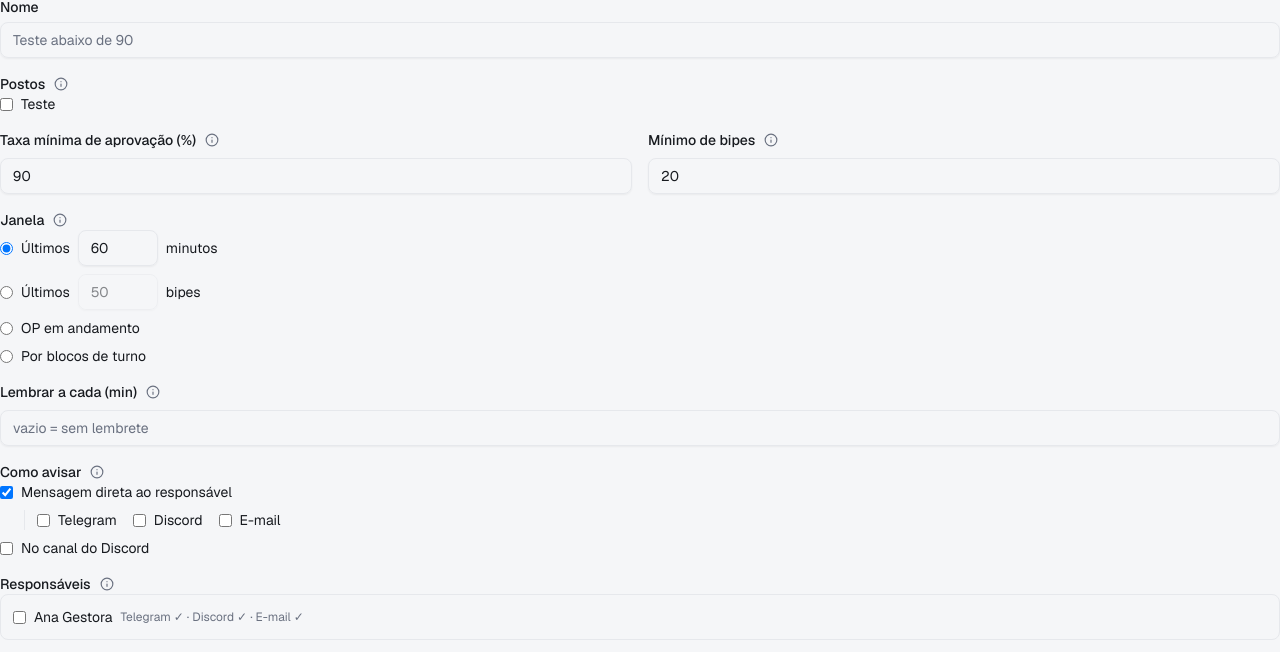
Test: RegraForm — o editor de intervalos › "Adicionar intervalo" acrescenta uma linha
Click the radio button labelled "Por blocos de turno". click: [6, 356]
box: [0,350,13,362]
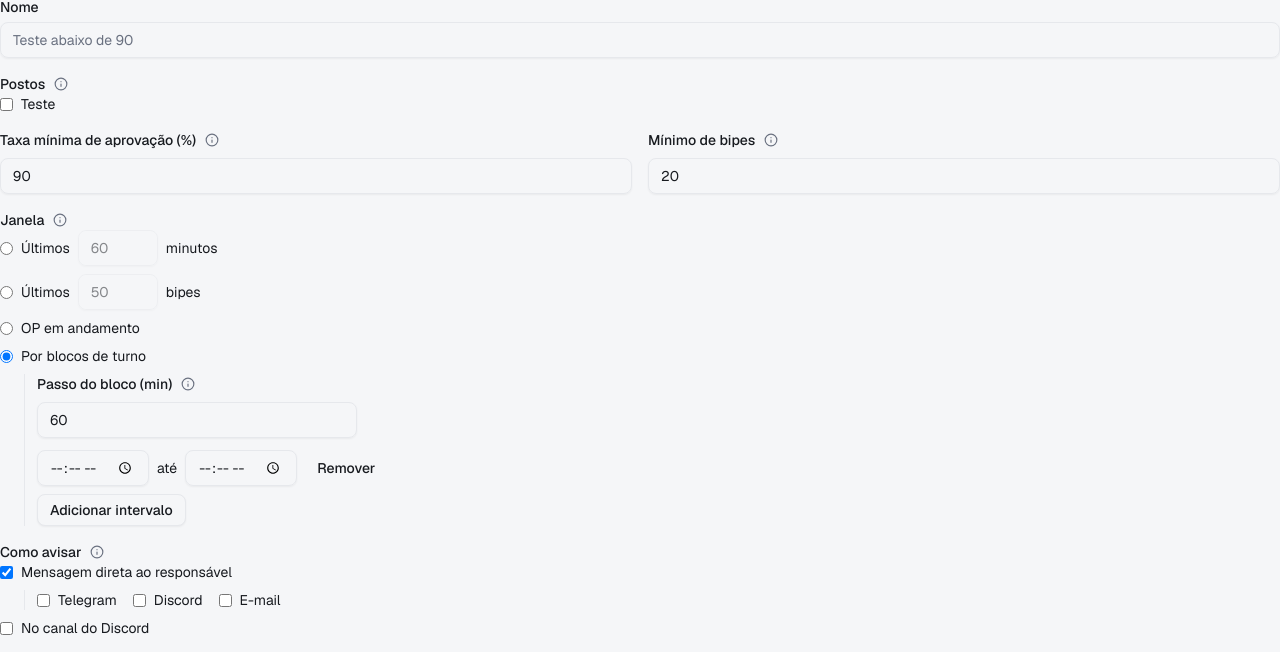
Click the button "Adicionar intervalo". click: [111, 510]
box: [37,494,186,526]
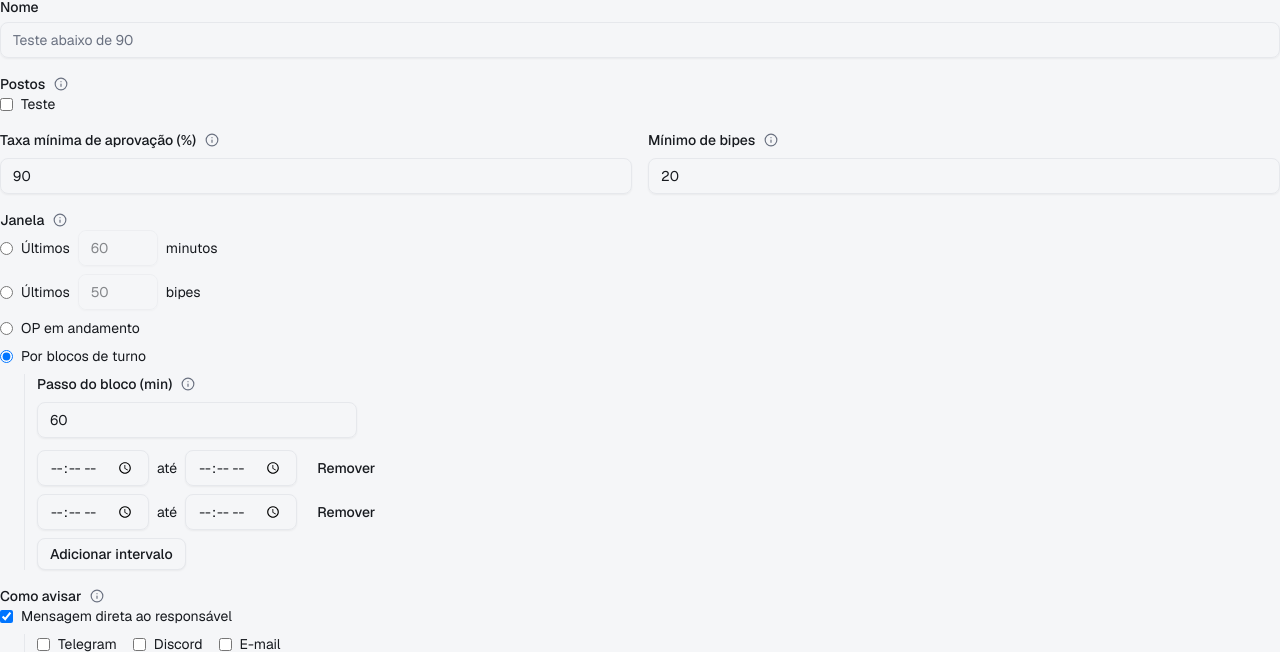
Expected: the time field named "Início do intervalo 2" is shown, [37,494,149,530]
Click the button "Adicionar intervalo". click: [111, 554]
box: [37,538,186,570]
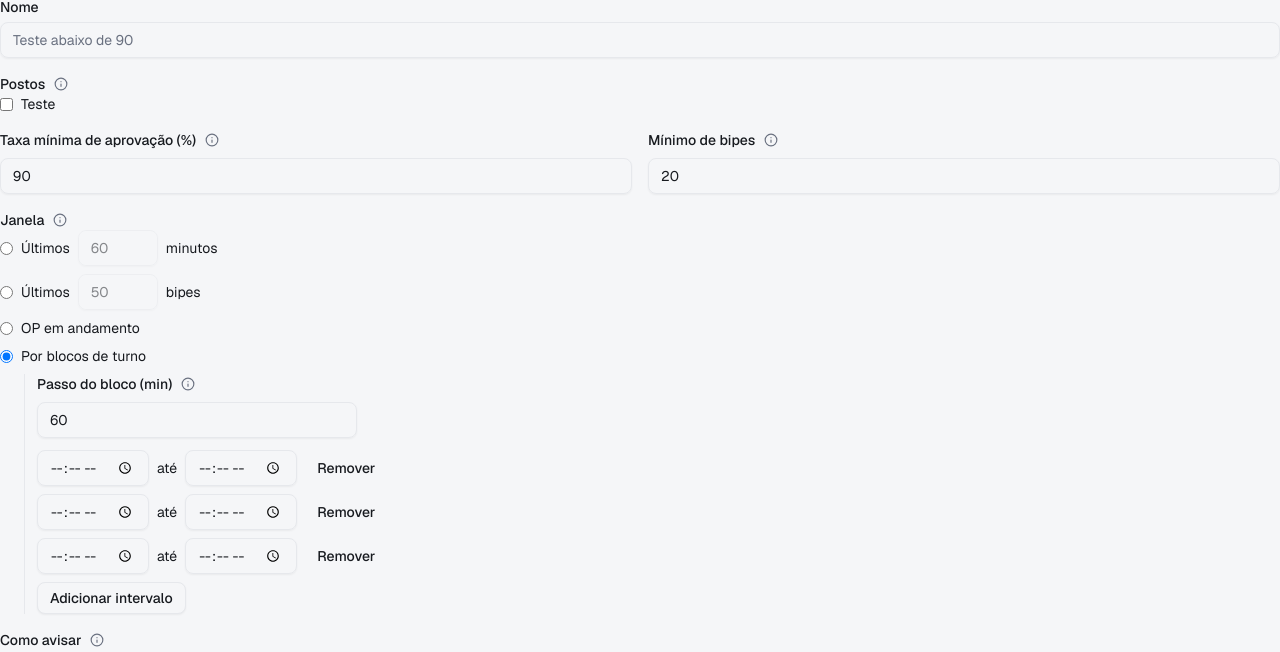
Expected: the time field named "Início do intervalo 3" is shown, [37,538,149,574]
